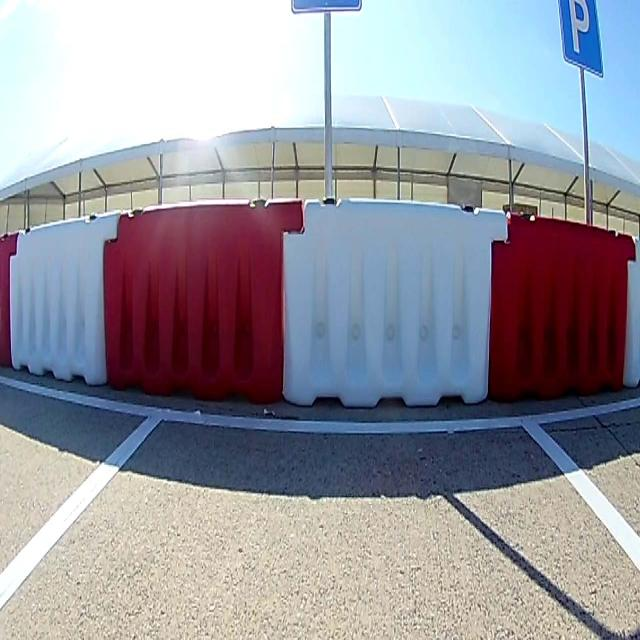park: (559, 1, 603, 75)
